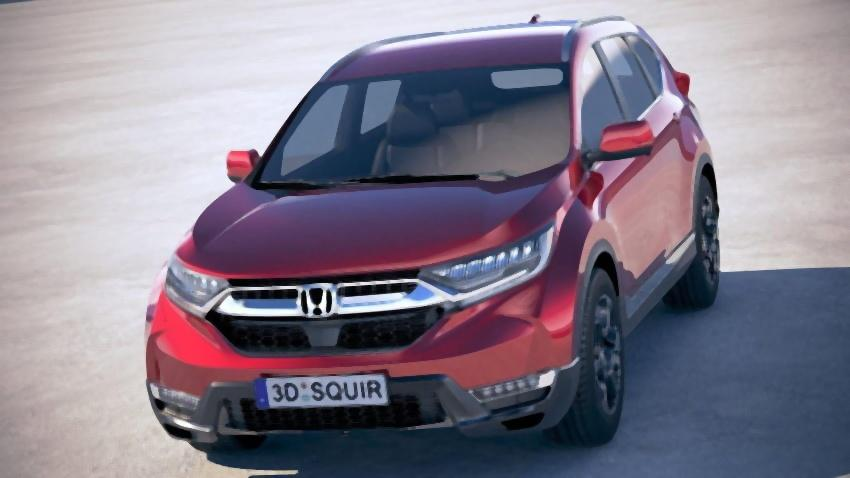Car hood: (171, 174, 574, 285)
Fender - -F-L-: (552, 150, 631, 332)
Front bumper: (134, 293, 607, 454)
Headlight - -L-: (409, 215, 563, 311)
Headlight - -R-: (150, 246, 239, 321)
Passenger-s door - -F-L-: (589, 30, 662, 306)
Passenger-s door - -R-L-: (628, 30, 698, 304)
Rear light - -L-: (667, 62, 701, 100)
Side bumper - -L-: (607, 229, 704, 342)
Side mirror - -L-: (586, 113, 664, 168)
Side mirror - -R-: (217, 143, 264, 189)
